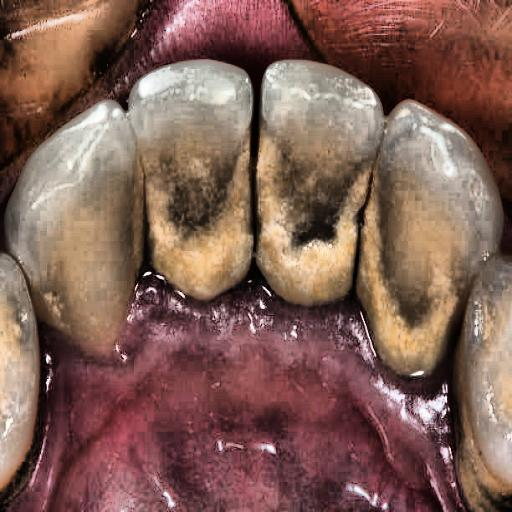Calculus: (134, 125, 452, 401)
